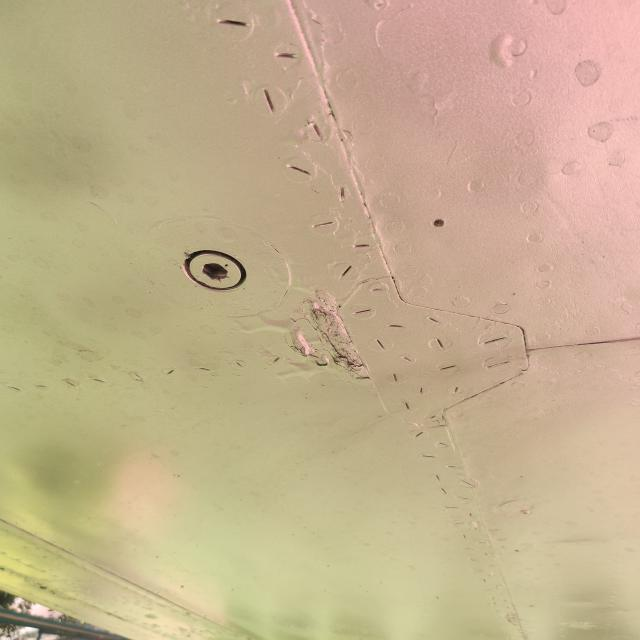paint-off: (280, 282, 378, 386)
